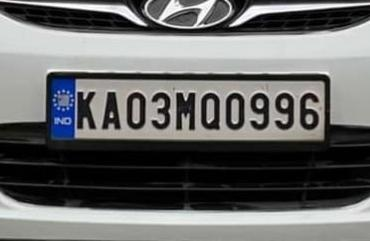0: (123, 90, 149, 133), (224, 90, 247, 133)
3: (149, 91, 174, 133)
6: (298, 90, 321, 133)
9: (273, 92, 295, 133), (250, 91, 270, 132)
A: (99, 89, 124, 133)
K: (74, 89, 100, 133)
M: (173, 90, 199, 134)
Q: (199, 90, 223, 135)
